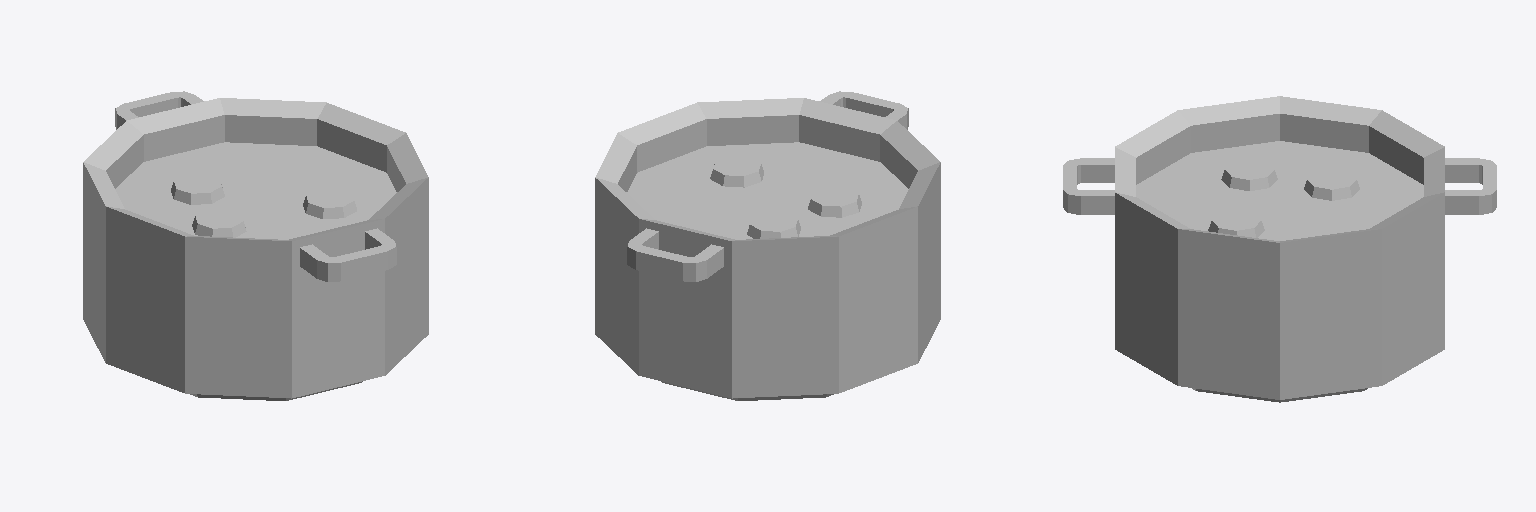
Rendered from pot-stew.obj.
3 renders of one model, left to right at view 1: azimuth 30°, elevation 25°; view 2: azimuth 150°, elevation 25°; view 3: azimuth 270°, elevation 25°, orthographic.
Visible parts, largest first — view 1: pot-stew; view 2: pot-stew; view 3: pot-stew.
Boxes of the visible parts, <box> form: pot-stew: <box>83,91,428,400</box>; pot-stew: <box>595,91,940,400</box>; pot-stew: <box>1063,96,1496,402</box>.
Size of the model in its own units: 0.6574 by 0.3608 by 0.8221.